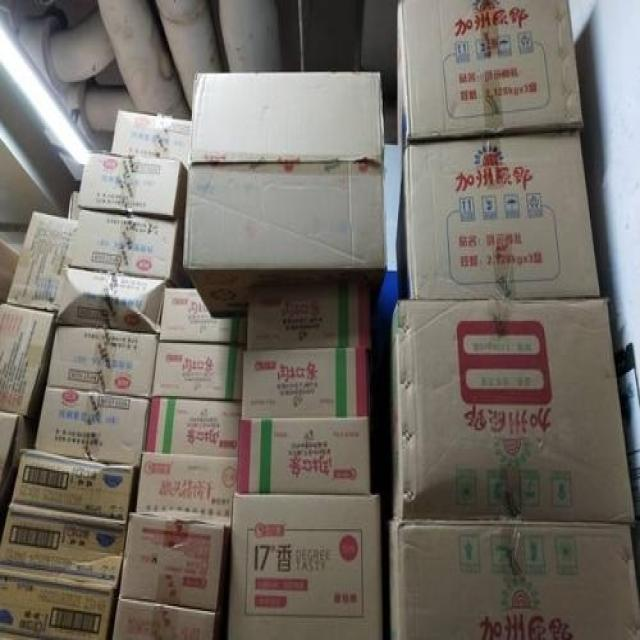box: (390, 299, 635, 522), (183, 72, 385, 317), (394, 131, 600, 299), (389, 522, 639, 640), (397, 2, 584, 154), (228, 495, 381, 640), (8, 451, 136, 532), (119, 515, 229, 609), (0, 514, 125, 594), (238, 420, 371, 495), (68, 212, 192, 287), (33, 389, 148, 468), (242, 352, 371, 418), (247, 285, 370, 350), (49, 328, 156, 398), (78, 154, 187, 222), (137, 454, 237, 527), (0, 575, 114, 638), (5, 212, 76, 312), (58, 271, 165, 333), (0, 304, 54, 420), (145, 399, 241, 456), (151, 345, 243, 401), (113, 109, 192, 169), (160, 290, 247, 343), (111, 601, 223, 638), (1, 413, 33, 500), (0, 230, 26, 300), (0, 633, 50, 640), (68, 191, 78, 220)
